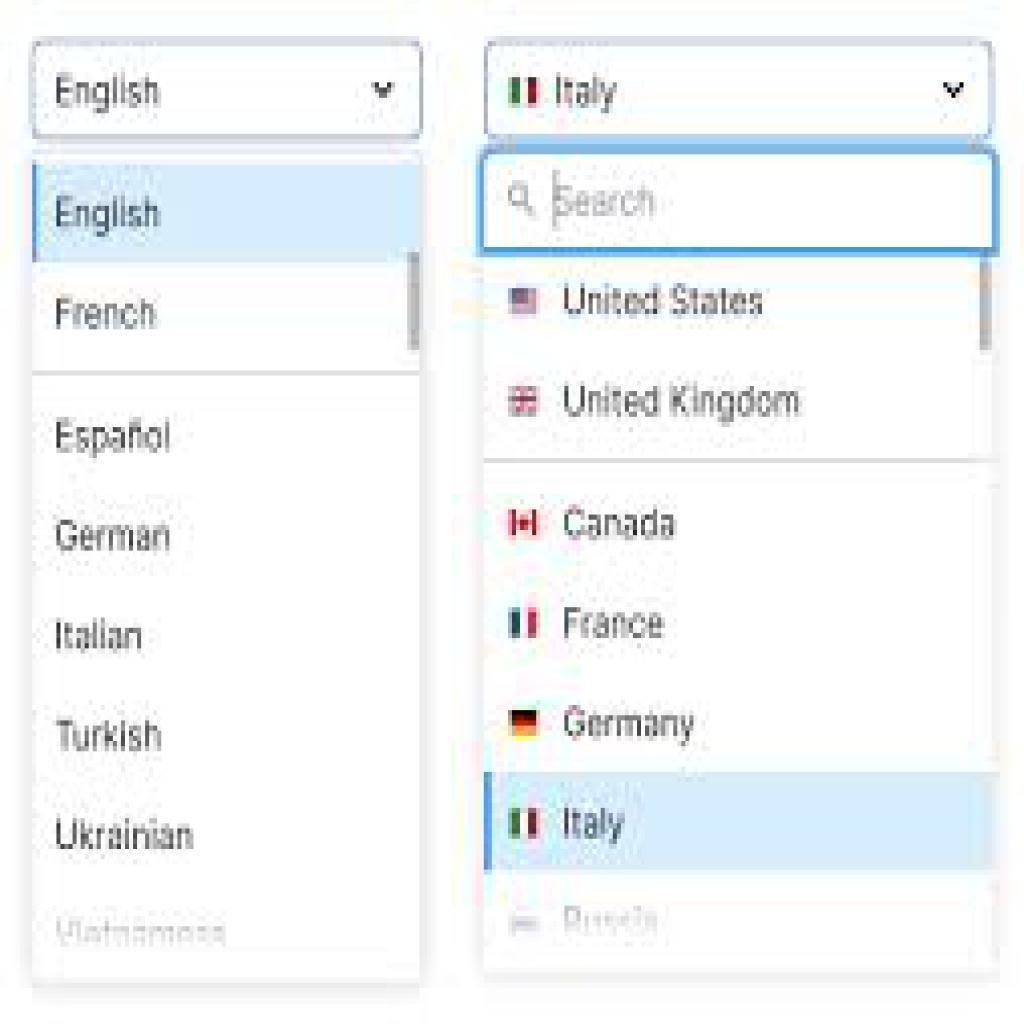button: (487, 774, 995, 871), (32, 158, 419, 262)
dropdown: (487, 44, 992, 138), (34, 41, 423, 139)
input: (480, 150, 996, 251)
